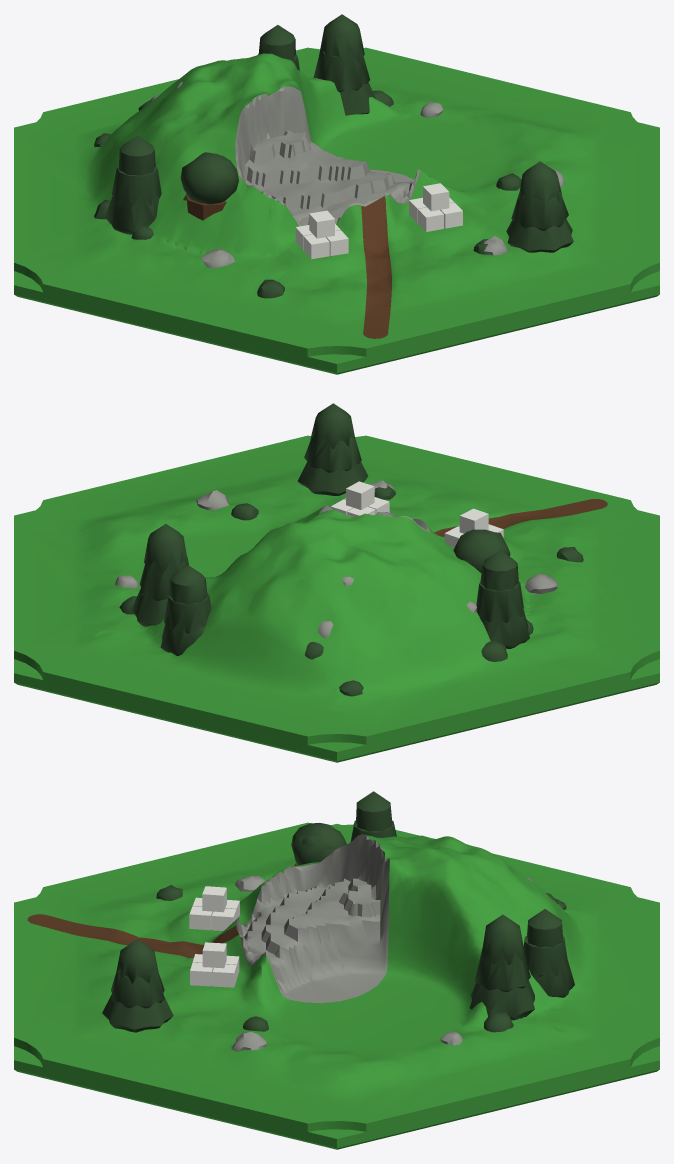
Rendered from huegel_2.glb.
The picture shows the model from 3 angles, top to bottom: view 1: azimuth 30°, elevation 25°; view 2: azimuth 150°, elevation 25°; view 3: azimuth 270°, elevation 25°; orthographic projection.
Visible parts, largest first — view 1: huegel_2; view 2: huegel_2; view 3: huegel_2.
Boxes of the visible parts, x1,y1,x2,y2 form: huegel_2: (14, 14, 659, 374); huegel_2: (14, 403, 659, 762); huegel_2: (14, 791, 659, 1149).
Bounding box in the file's own units: 65.24 × 12.5 × 56.5.
